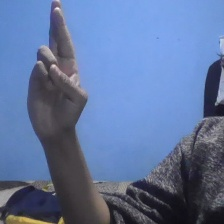R: (22, 1, 92, 142)
